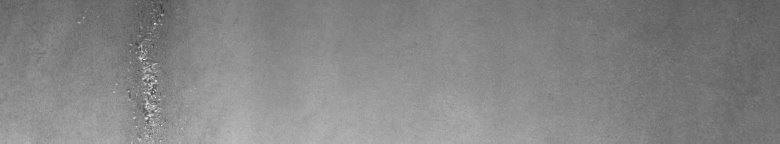hc: (77, 4, 176, 136)
